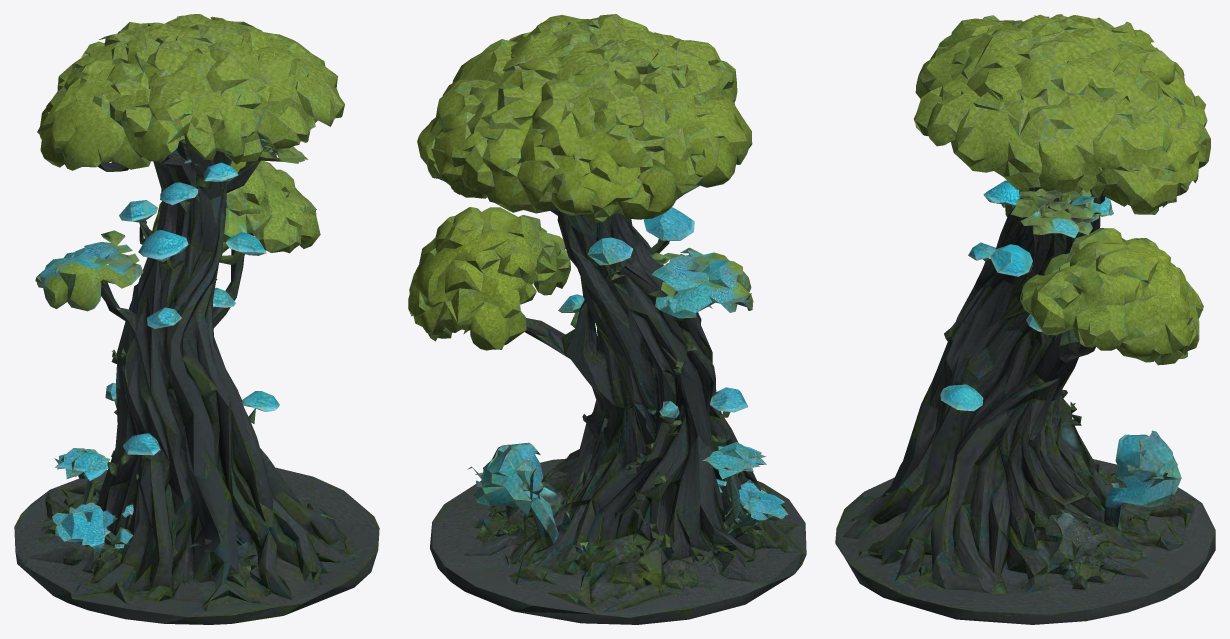
File: banyan.glb
The picture shows the model from 3 angles, left to right: view 1: azimuth 30°, elevation 25°; view 2: azimuth 150°, elevation 25°; view 3: azimuth 270°, elevation 25°; orthographic projection. The views are drawn at different scales.
Visible parts, largest first — view 1: mesh_node; view 2: mesh_node; view 3: mesh_node.
Boxes of the visible parts, x1,y1,x2,y2 form: mesh_node: (14,14,379,624); mesh_node: (408,14,806,624); mesh_node: (835,14,1215,624).
Size of the model in its own units: 1.25 by 1.9 by 1.25.
Materials: 1 (1 with a texture image).
